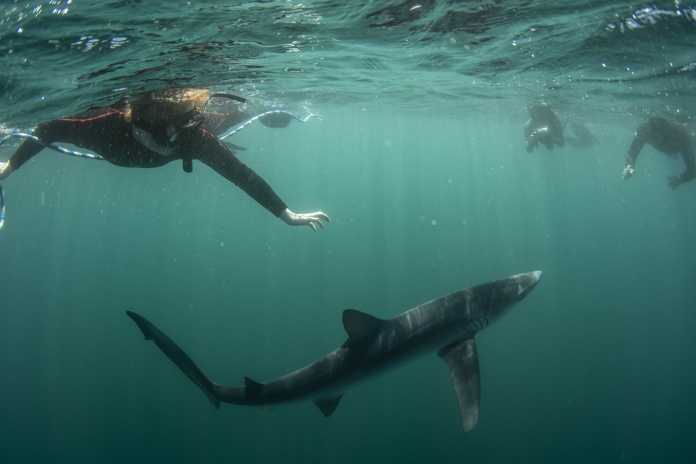Azul: (129, 256, 544, 435)
